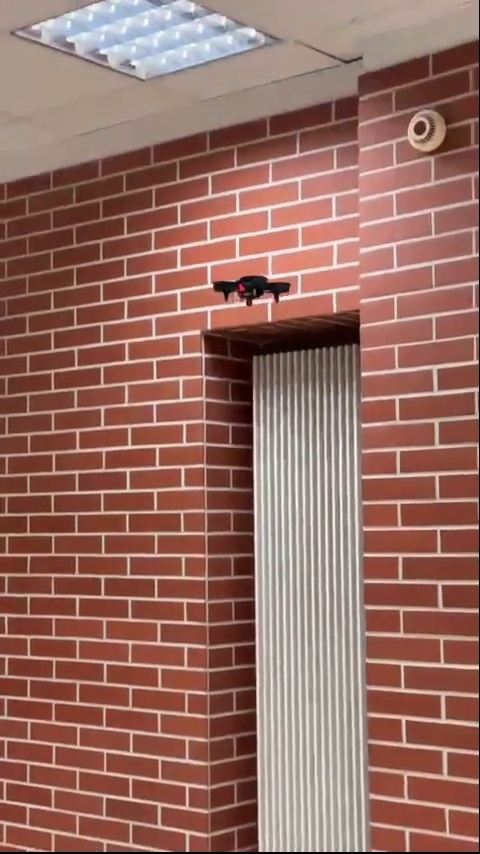drone: (209, 273, 293, 310)
